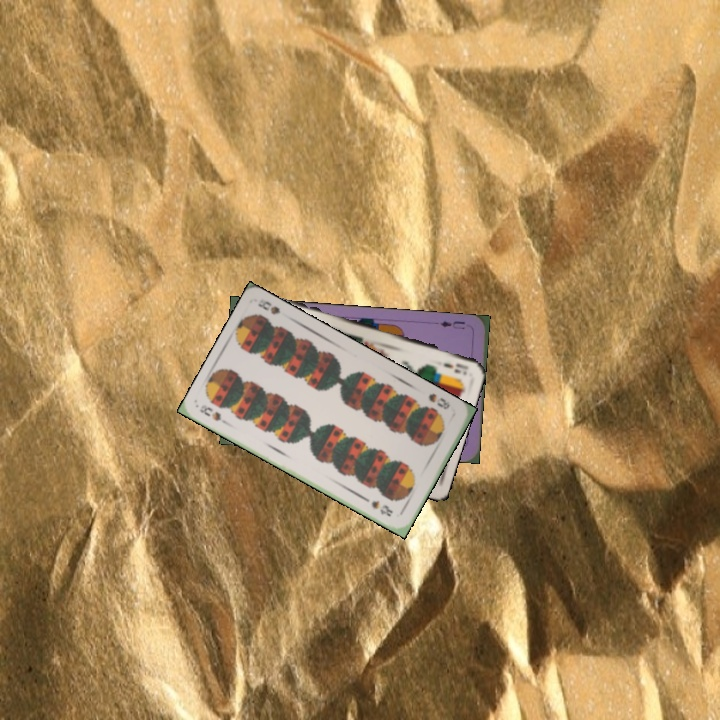EK: (439, 359, 471, 377)
EU: (432, 317, 467, 332)
S8: (196, 401, 233, 429), (424, 389, 452, 412)
